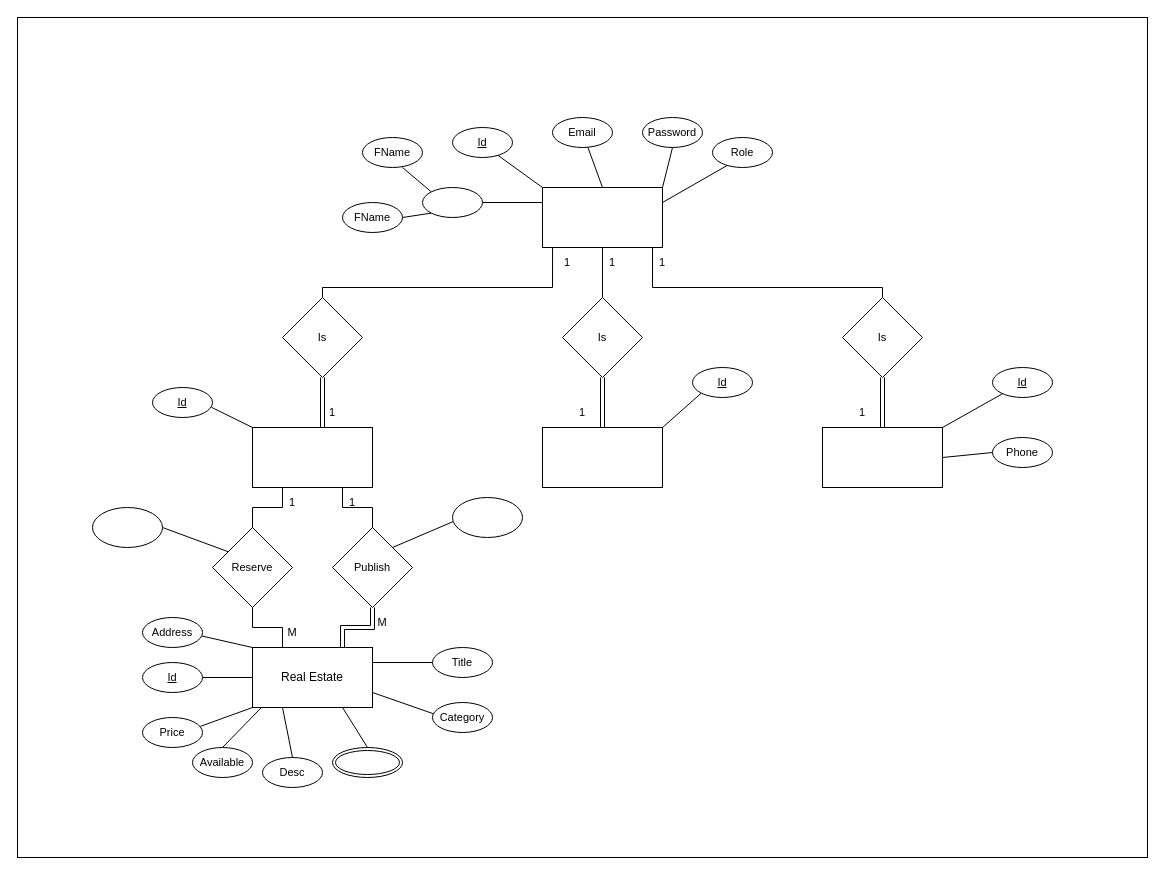
Some shapes in this 1165 by 875 pixel diagram are drawn without their labels. Here are the shapes that lost their labels. From the top down, the centre of each, then its label:
At (452,202): "Name".
At (602,217): "Person".
At (312,457): "User".
At (602,457): "Admin".
At (882,457): "Support".
At (127,527): "Reservation Date".
At (487,517): "Publish Date".
At (367,762): "Imgs".
